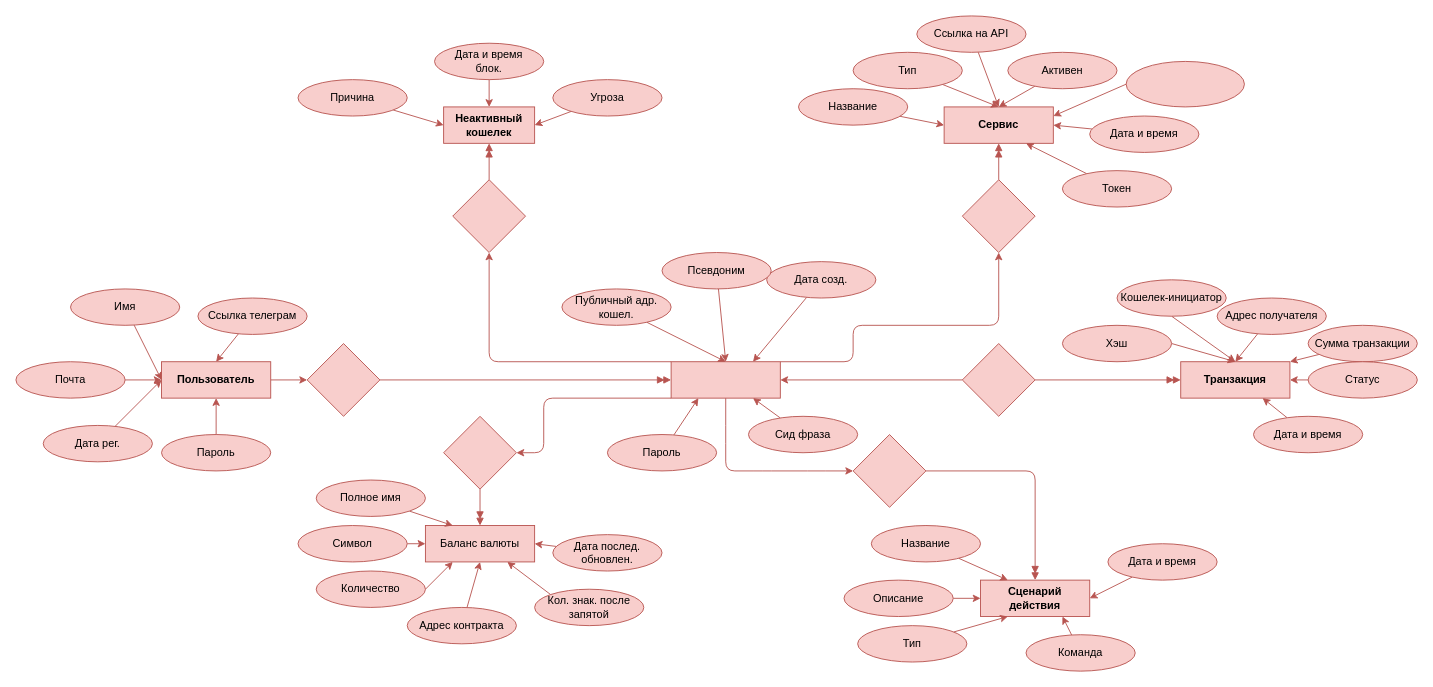
Image size: 1433x687. Some labels were removed from this diagram. Each missing label, with the box of its shape:
Владеет: (306, 343, 380, 416)
Входит: (452, 179, 526, 253)
Дата и время посл. обнов.: (1125, 61, 1244, 107)
Инициирует: (961, 343, 1035, 416)
Кошелек: (670, 361, 780, 398)
Отражает: (443, 415, 516, 489)
Переводит: (961, 179, 1035, 253)
Участвует: (852, 434, 926, 507)
